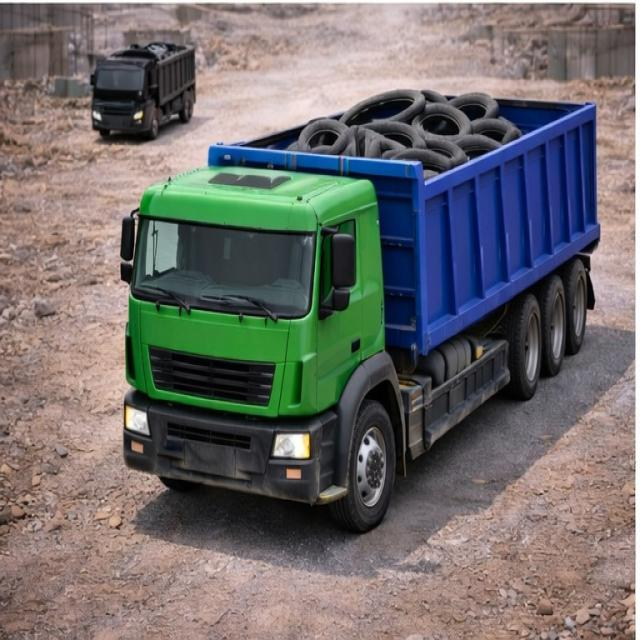Box: (201, 85, 595, 161)
Truck: (120, 60, 617, 526)
